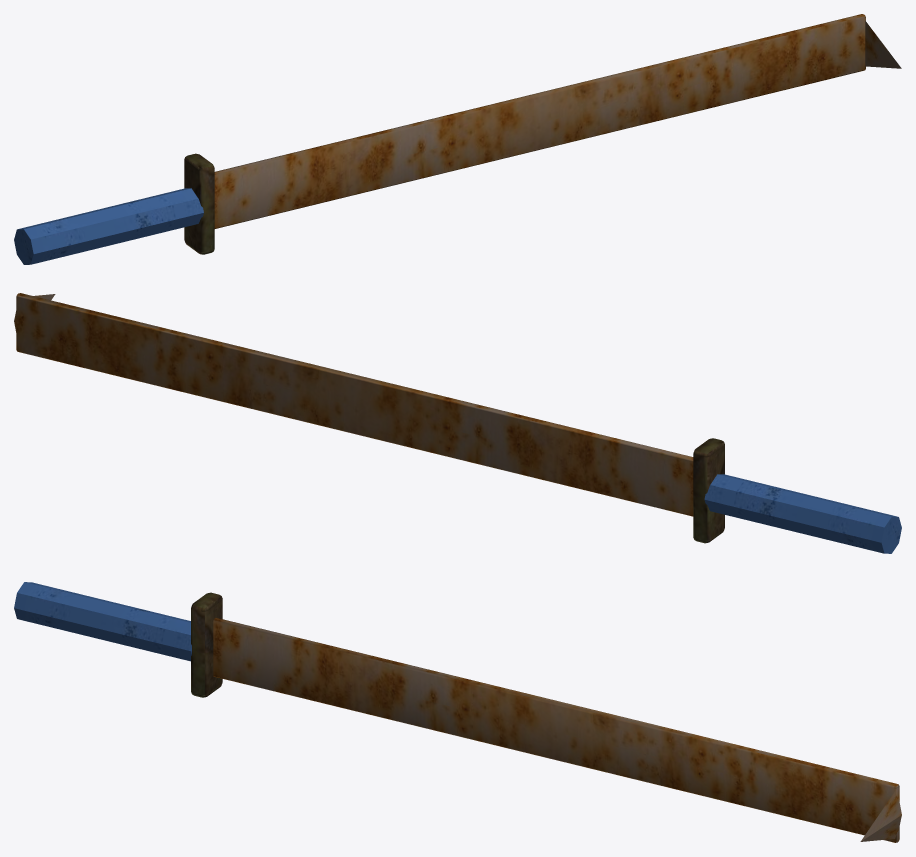
Rendered from held_weapon_salvaged_sword.glb.
3 views of the same model, one above another, from view 1: azimuth 30°, elevation 25°; view 2: azimuth 150°, elevation 25°; view 3: azimuth 330°, elevation 25° (orthographic). The views are drawn at different scales.
Visible parts, largest first — view 1: box.001, cyl, box, cyl.001; view 2: box.001, cyl, box; view 3: box.001, cyl, box, cyl.001.
Part boxes in pixels (x1,y1,x2,y2): box.001: (214,14,865,228); cyl: (14,188,203,264); box: (184,153,214,254); cyl.001: (865,21,901,68); box.001: (16,293,693,516); cyl: (704,474,901,553); box: (693,438,724,543); box.001: (213,617,899,842); cyl: (14,582,191,661); box: (191,592,222,697); cyl.001: (860,791,901,841).
Size of the model in its own units: 0.793 by 0.08 by 0.076.
3 materials, 3 textured.
